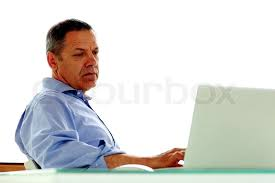white_male: (49, 32, 107, 93)
